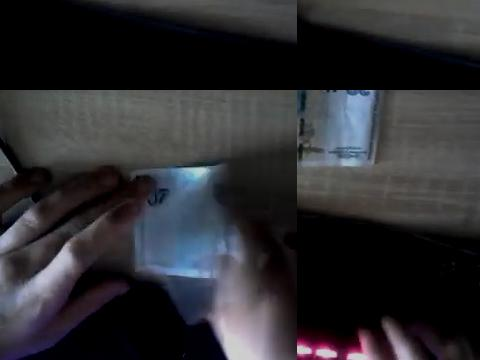20leva: (132, 163, 229, 279), (300, 90, 386, 167)
